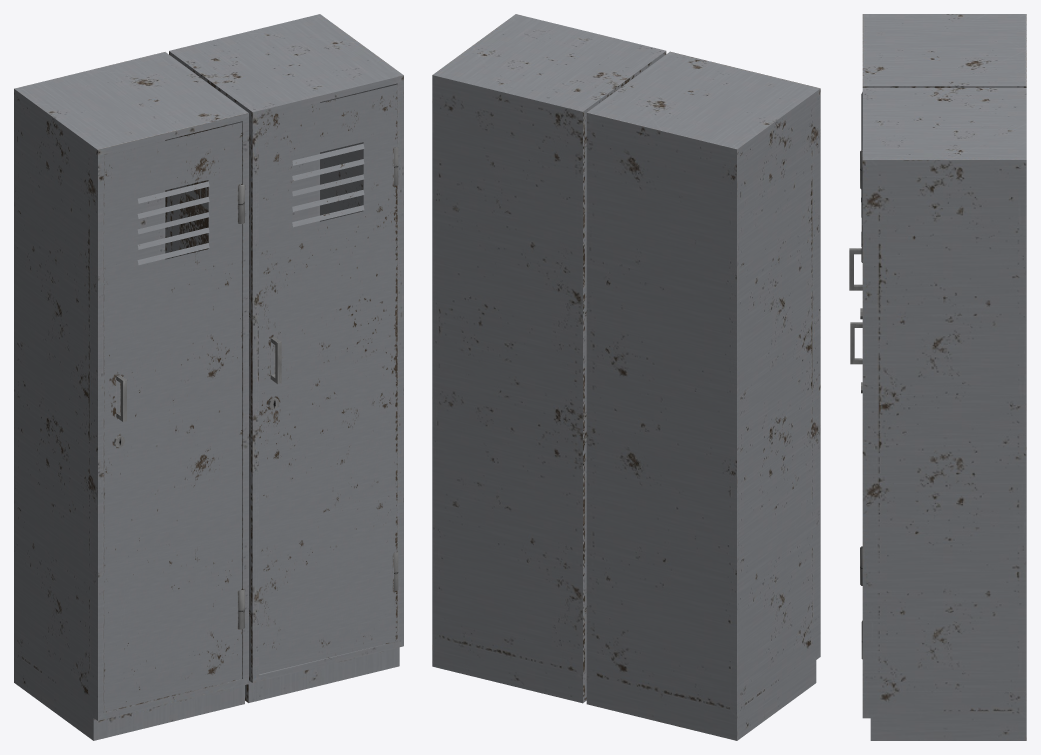
Rendered from metal_cabinet.glb.
3 renders of one model, left to right at view 1: azimuth 30°, elevation 25°; view 2: azimuth 150°, elevation 25°; view 3: azimuth 270°, elevation 25°, orthographic. The views are drawn at different scales.
Visible parts, largest first — view 1: Body, Door_R, Door_L; view 2: Body; view 3: Body, Door_R, Door_L.
Boxes of the visible parts, left/top/right/bottom form: Body: left=14, top=14, right=403, bottom=740; Door_R: left=259, top=84, right=397, bottom=674; Door_L: left=104, top=122, right=242, bottom=712; Body: left=432, top=14, right=820, bottom=740; Body: left=860, top=14, right=1026, bottom=740; Door_R: left=850, top=167, right=862, bottom=393; Door_L: left=849, top=92, right=862, bottom=319.
Bounding box in the file's own units: 1.08 × 2 × 0.5524.
3 materials, 3 textured.
